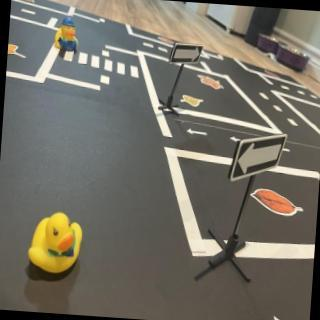duck_regular: (28, 212, 85, 276)
duck_specialty: (53, 16, 80, 52)
road_crosswalk: (61, 49, 143, 82)
road_oneway: (257, 311, 293, 320), (186, 127, 210, 140), (230, 135, 240, 144)
sign_oneway_left: (231, 132, 289, 188)
sign_oneway_right: (169, 44, 204, 67)
